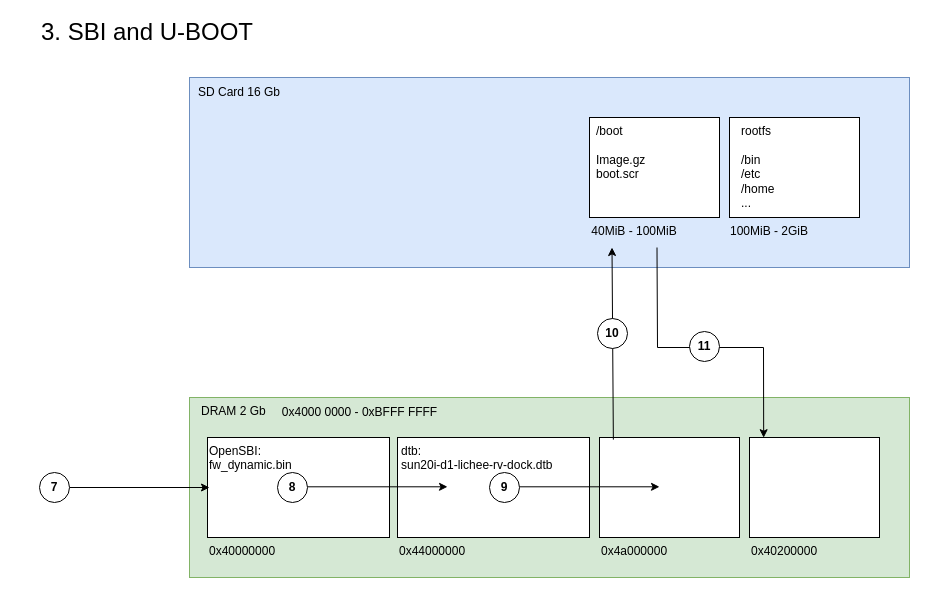
This 927x595 diagram has some shape labels left out. Here are the shapes that lost their labels. From the top down, the centre of each, then its label:
At (669,487): "u-boot: u-boot-nodtb.bin".
At (814,487): "Image.gz".
